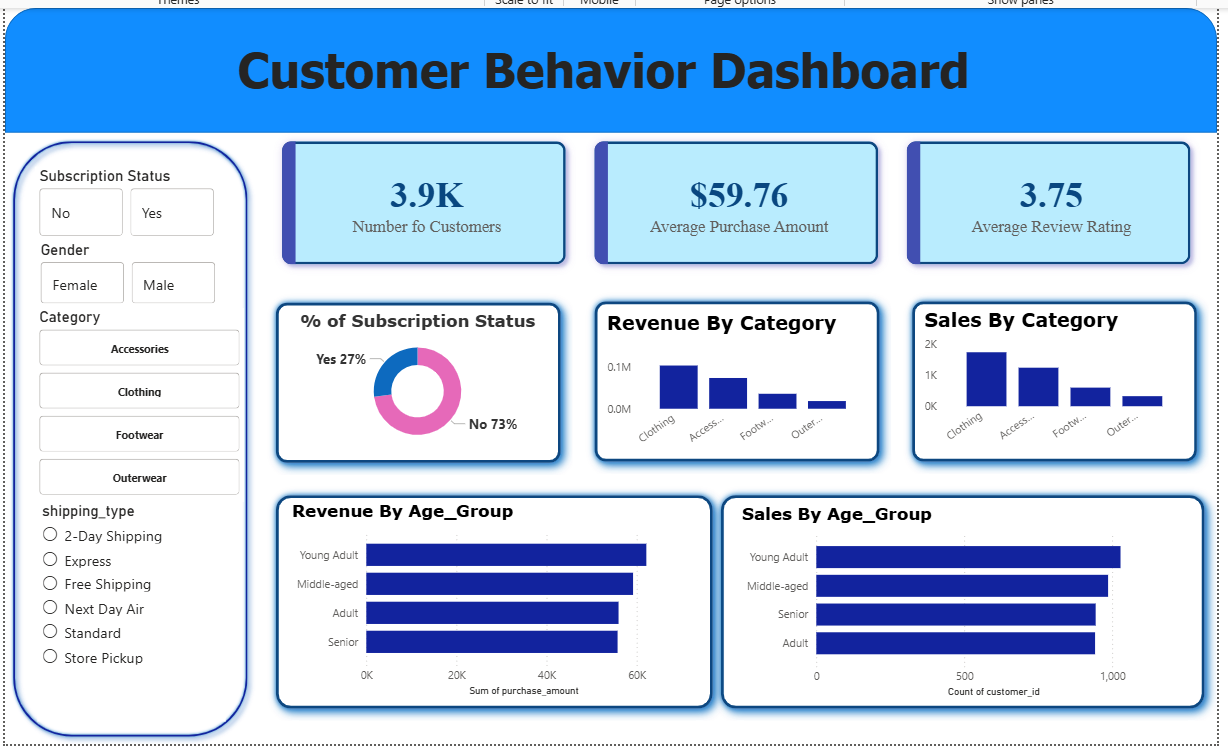

What the dashboard file says about the page in this screenshot:
{"tool":"powerbi","page":{"name":"Page 1","canvas":[1350,820],"ordinal":0},"visuals":[{"type":"group","id":"g1","title":"Group 1","box":[288,315.2,344.3,205.5],"z":0,"group":"g4"},{"type":"shape","box":[288,315.2,344.3,205.5],"z":0,"group":"g1"},{"type":"shape","box":[784.4,529.7,565.9,264.8],"z":0},{"type":"cardVisual","fields":{"Data":["public customer.Number fo Customers","public customer.Average Purchase Amount","public customer.Average Review Rating"]},"box":[279.3,120.1,1071,195.4],"z":1000},{"type":"group","id":"g2","title":"Group 2","box":[642.6,314,344.4,205.5],"z":1000,"group":"g4"},{"type":"group","id":"g3","title":"Group 3","box":[996.4,314.6,344.3,205.5],"z":2000,"group":"g4"},{"type":"shape","box":[288,529.7,513.8,264.8],"z":2000},{"type":"shape","box":[0,0,1350.3,138.9],"z":3000},{"type":"textbox","box":[160.6,30.4,1013.1,81],"z":4000},{"type":"shape","box":[996.4,314.6,344.3,205.5],"z":4000,"group":"g3"},{"type":"shape","box":[0,138.9,279.3,681.7],"z":5000},{"type":"shape","box":[642.6,314,344.3,205.5],"z":5000,"group":"g2"},{"type":"group","id":"g4","title":"Group 4","box":[288,314,1052.7,206.7],"z":6000},{"type":"donutChart","title":"% of Subscription Status","fields":{"Category":["public customer.subscription_status"],"Y":["CountNonNull(public customer.customer_id)"]},"box":[313.6,337.2,292.8,157.8],"z":6000,"group":"g1"},{"type":"clusteredColumnChart","title":"Revenue By Category","fields":{"Y":["Sum(public customer.purchase_amount)"],"Category":["public customer.category"]},"box":[664.7,337.2,300.2,160.6],"z":6001,"group":"g2"},{"type":"clusteredColumnChart","title":"Sales By Category","fields":{"Y":["CountNonNull(public customer.customer_id)"],"Category":["public customer.category"]},"box":[1018.5,334.9,300.2,160.6],"z":6002,"group":"g3"},{"type":"advancedSlicerVisual","fields":{"Values":["public customer.subscription_status"]},"box":[33.3,176.6,204.1,82.5],"z":7000},{"type":"advancedSlicerVisual","fields":{"Values":["public customer.gender"]},"box":[34.7,259.1,204.1,75.3],"z":8000},{"type":"advancedSlicerVisual","fields":{"Values":["public customer.category"]},"box":[33.3,334.3,233,215.6],"z":9000},{"type":"listSlicer","fields":{"Values":["public customer.shipping_type"]},"box":[36.2,550,209.9,244.6],"z":10000},{"type":"clusteredBarChart","title":"Sales By Age_Group","fields":{"Y":["CountNonNull(public customer.customer_id)"],"Category":["public customer.age_group"]},"box":[816.3,551.4,503.6,221.4],"z":11000},{"type":"clusteredBarChart","title":"Revenue By Age_Group","fields":{"Y":["Sum(public customer.purchase_amount)"],"Category":["public customer.age_group"]},"box":[314.1,548.5,454.4,222.9],"z":12000}]}

Visuals, with their boxes in screenshot pixels (x1, y1, x2, y2):
"Group 1" group: {"left": 246, "top": 302, "right": 554, "bottom": 486}
shape: {"left": 246, "top": 302, "right": 554, "bottom": 486}
shape: {"left": 691, "top": 494, "right": 1198, "bottom": 732}
cardVisual - public customer.Number fo Customers x public customer.Average Purchase Amount: {"left": 238, "top": 127, "right": 1198, "bottom": 302}
"Group 2" group: {"left": 564, "top": 301, "right": 873, "bottom": 485}
"Group 3" group: {"left": 881, "top": 301, "right": 1190, "bottom": 486}
shape: {"left": 246, "top": 494, "right": 706, "bottom": 732}
shape: {"left": 0, "top": 19, "right": 1198, "bottom": 144}
textbox: {"left": 131, "top": 46, "right": 1040, "bottom": 119}
shape: {"left": 881, "top": 301, "right": 1190, "bottom": 486}
shape: {"left": 0, "top": 144, "right": 238, "bottom": 746}
shape: {"left": 564, "top": 301, "right": 873, "bottom": 485}
"Group 4" group: {"left": 246, "top": 301, "right": 1190, "bottom": 486}
"% of Subscription Status" donutChart: {"left": 269, "top": 322, "right": 531, "bottom": 463}
"Revenue By Category" clusteredColumnChart: {"left": 583, "top": 322, "right": 853, "bottom": 466}
"Sales By Category" clusteredColumnChart: {"left": 901, "top": 320, "right": 1170, "bottom": 464}
advancedSlicerVisual - public customer.subscription_status: {"left": 17, "top": 178, "right": 200, "bottom": 252}
advancedSlicerVisual - public customer.gender: {"left": 18, "top": 252, "right": 201, "bottom": 319}
advancedSlicerVisual - public customer.category: {"left": 17, "top": 319, "right": 226, "bottom": 512}
listSlicer - public customer.shipping_type: {"left": 20, "top": 513, "right": 208, "bottom": 732}
"Sales By Age_Group" clusteredBarChart: {"left": 719, "top": 514, "right": 1171, "bottom": 712}
"Revenue By Age_Group" clusteredBarChart: {"left": 269, "top": 511, "right": 677, "bottom": 711}
